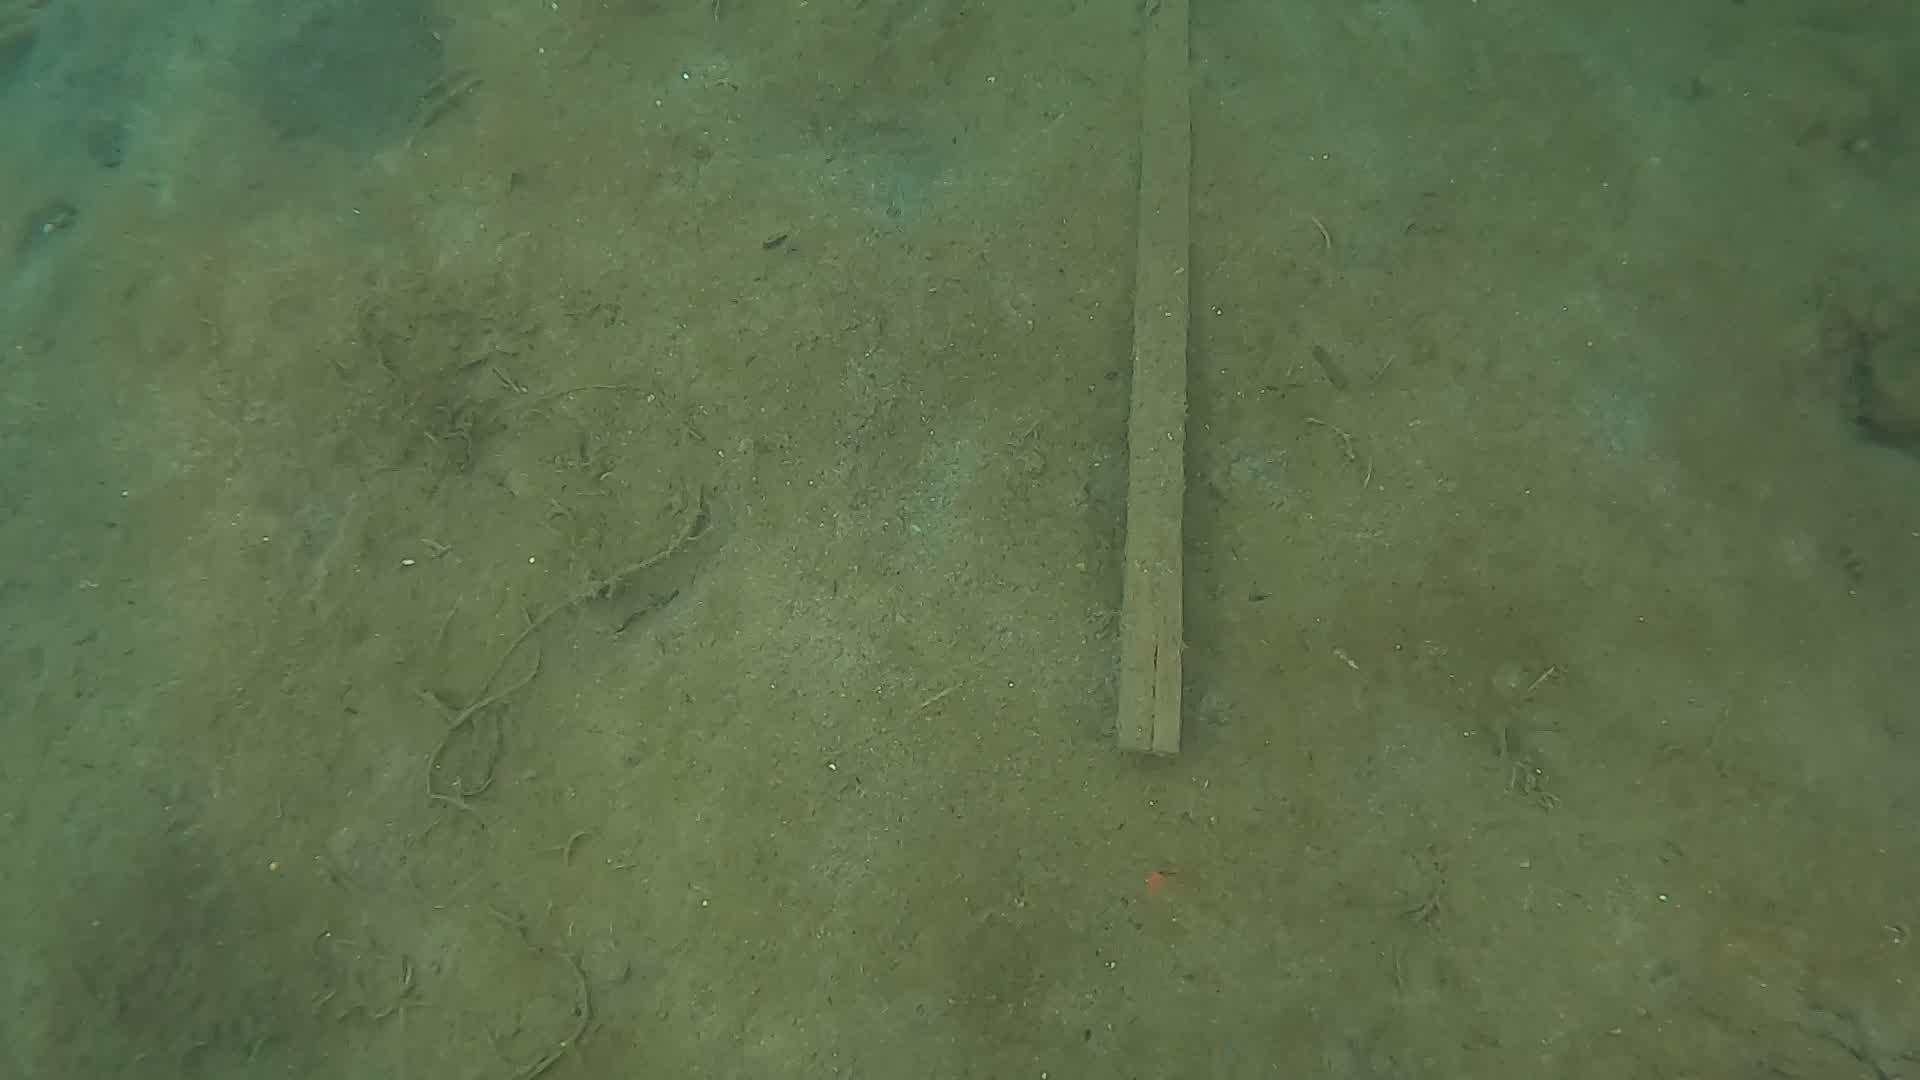wood: (1113, 0, 1185, 758)
